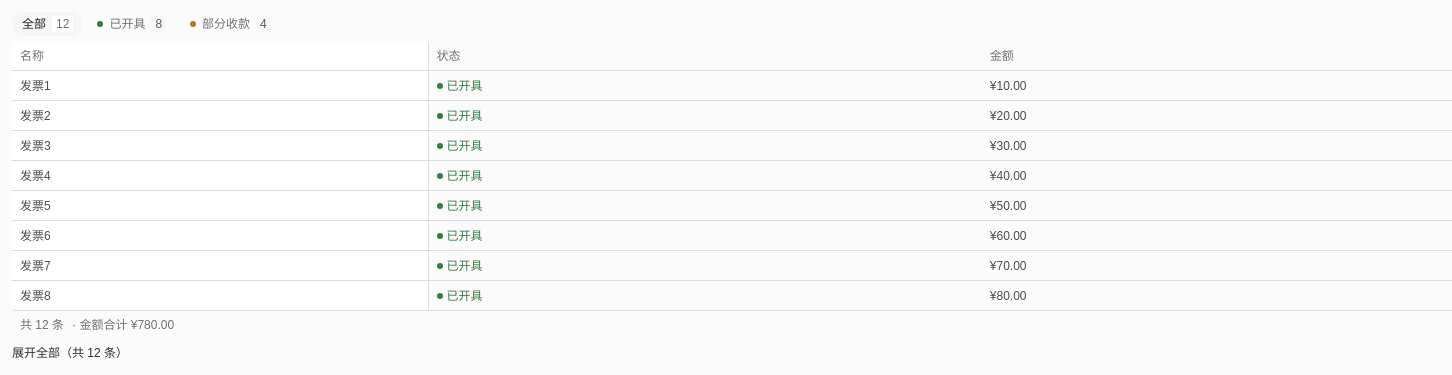
状态筛选芯片（A2，真实过滤） › 筛选值全部落在首屏 8 条之后 → 仍显示匹配行（切片来自筛选后集合）
Step 1. Click the button "部分收款 4" → (230, 24), box [180,12,281,36]
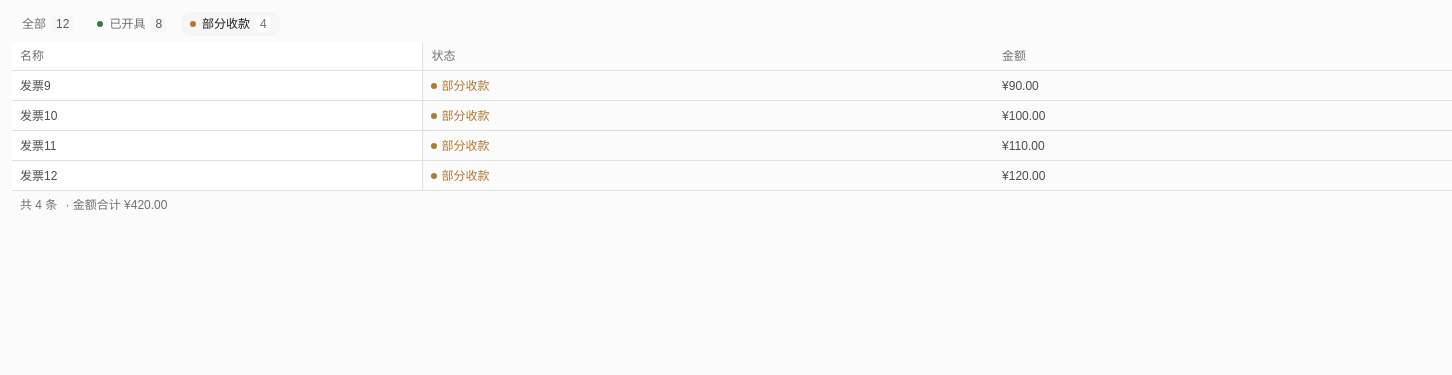
Check: the row "发票9 部分收款 ¥90.00" is shown, box [12,71,1451,101]
Check: the row "发票10 部分收款 ¥100.00" is shown, box [12,101,1451,131]
Check: the row "发票11 部分收款 ¥110.00" is shown, box [12,131,1451,161]
